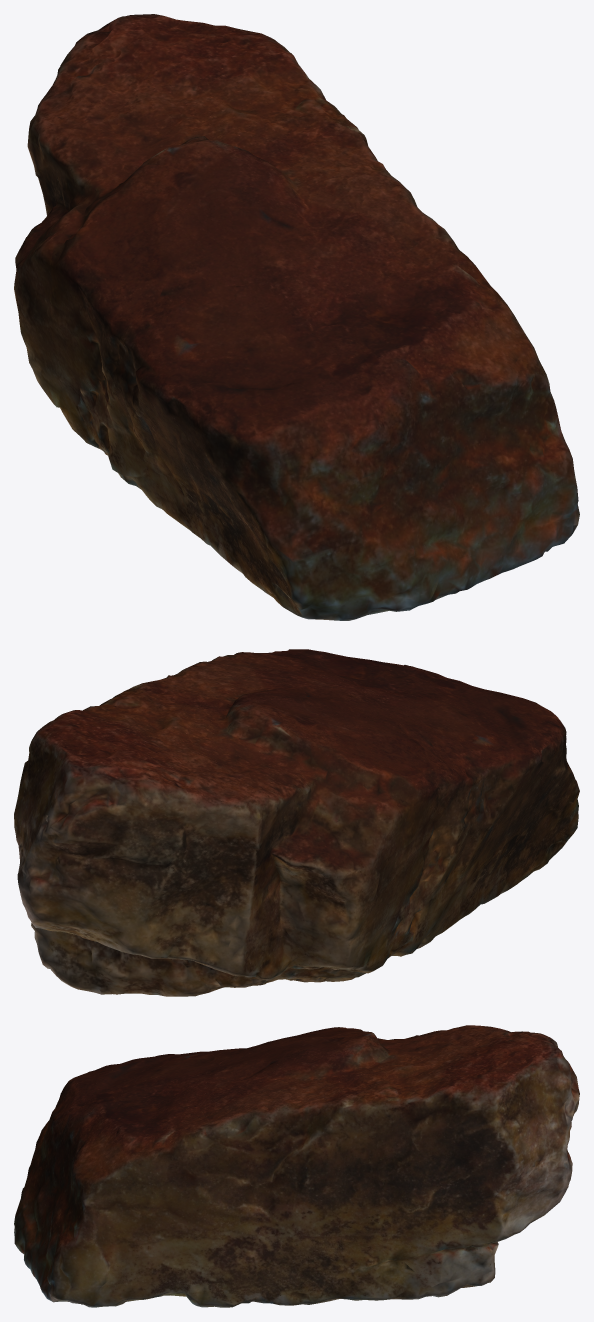
File: rock_07.glb
3 renders of one model, top to bottom at view 1: azimuth 30°, elevation 25°; view 2: azimuth 150°, elevation 25°; view 3: azimuth 270°, elevation 25°, orthographic. The views are drawn at different scales.
Parts seen in each view (by area): view 1: rock_07; view 2: rock_07; view 3: rock_07.
Boxes of the visible parts, left/top/right/bottom form: rock_07: left=14, top=14, right=579, bottom=620; rock_07: left=14, top=649, right=579, bottom=996; rock_07: left=14, top=1025, right=579, bottom=1307.
Size of the model in its own units: 0.1689 by 0.1437 by 0.3203.
Materials: 1 (1 with a texture image).
